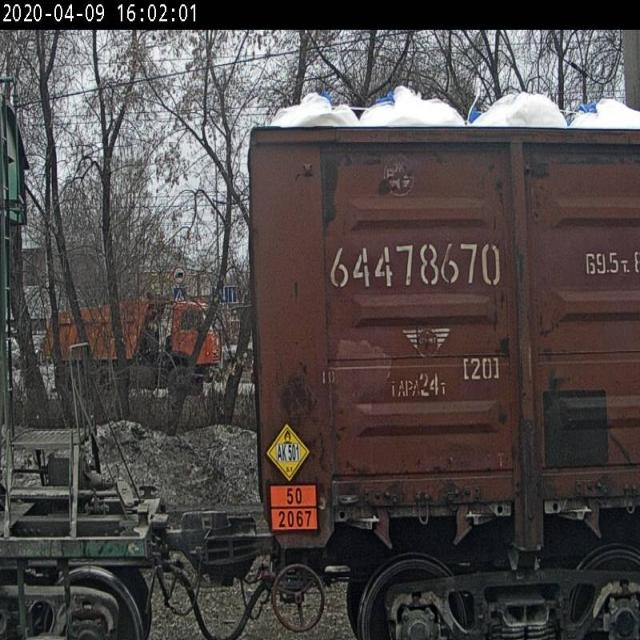gondola: (244, 79, 640, 640)
